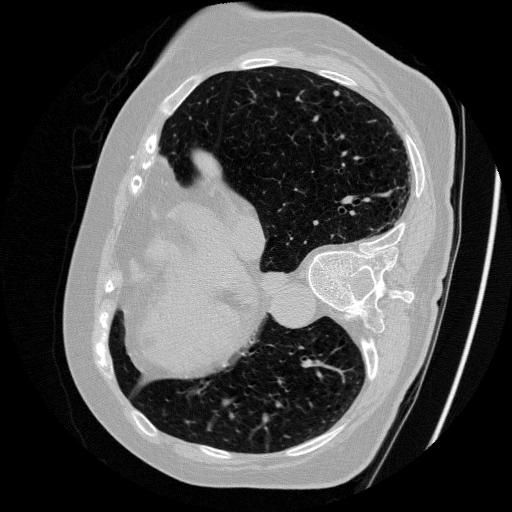nodule: (330, 86, 343, 99)
